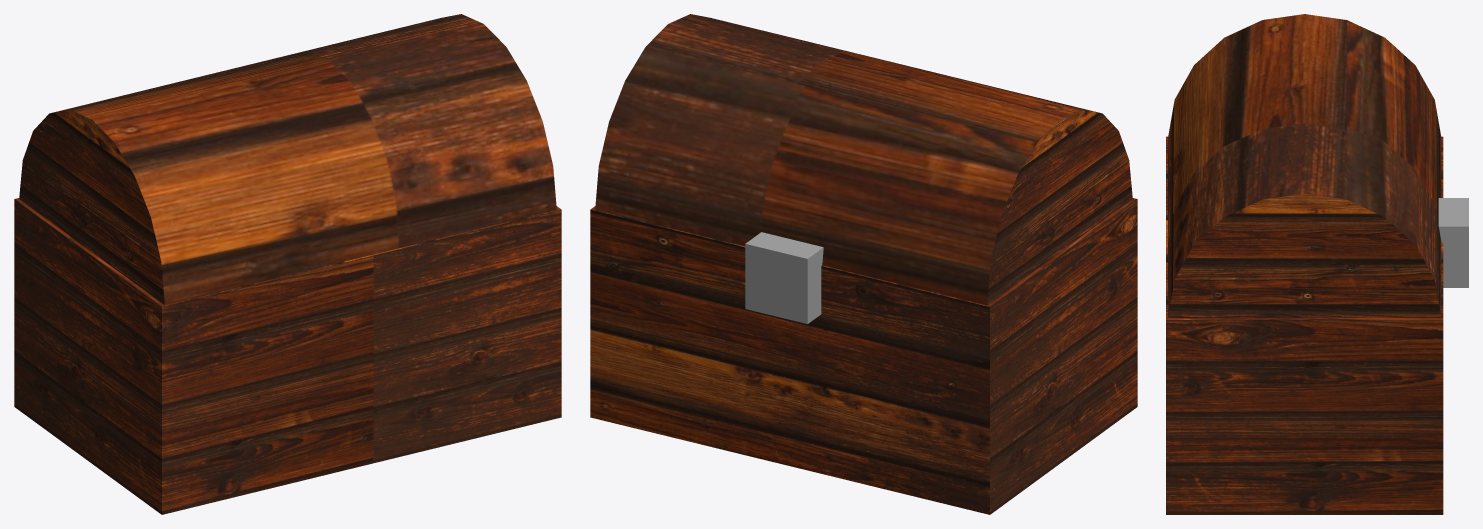
The model's file is treasurechest.fbx.
3 renders of one model, left to right at view 1: azimuth 30°, elevation 25°; view 2: azimuth 150°, elevation 25°; view 3: azimuth 270°, elevation 25°, orthographic. The views are drawn at different scales.
Visible parts, largest first — view 1: pCube1, pCylinder1; view 2: pCube1, pCylinder1, pCube2; view 3: pCylinder1, pCube1, pCube2.
Part boxes in pixels (x1,y1,x2,y2): pCube1: (14, 198, 561, 514); pCylinder1: (19, 14, 556, 305); pCube1: (590, 198, 1137, 514); pCylinder1: (595, 14, 1132, 305); pCube2: (745, 232, 823, 323); pCylinder1: (1168, 14, 1441, 317); pCube1: (1166, 136, 1443, 514); pCube2: (1438, 198, 1468, 287).
Size of the model in its own units: 16.95 by 13.79 by 11.85.
